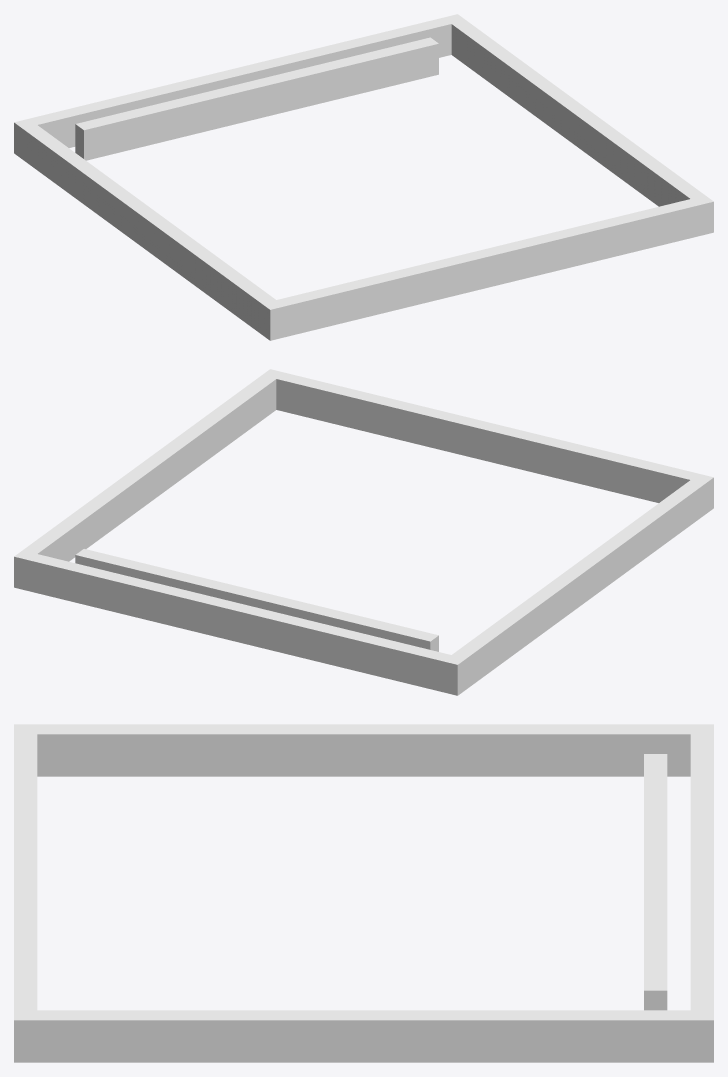
Rendered from furnitureSelector2x2.gltf.
3 renders of one model, top to bottom at view 1: azimuth 30°, elevation 25°; view 2: azimuth 150°, elevation 25°; view 3: azimuth 270°, elevation 25°, orthographic. The views are drawn at different scales.
Visible parts, largest first — view 1: cube; view 2: cube; view 3: cube.
Boxes of the visible parts, x1,y1,x2,y2 form: cube: (14,14,713,340); cube: (14,369,713,695); cube: (14,724,713,1062).
Size of the model in its own units: 1.88 by 0.125 by 1.88.
Materials: 1 (1 with a texture image).
